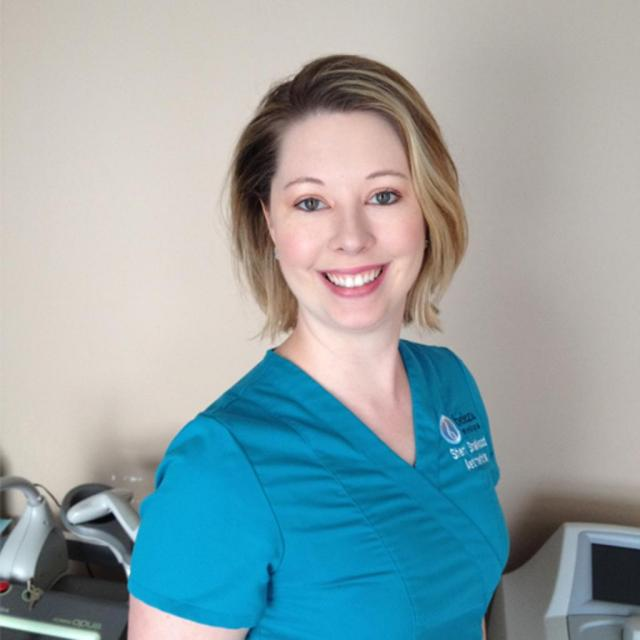nomask: (272, 135, 428, 330)
